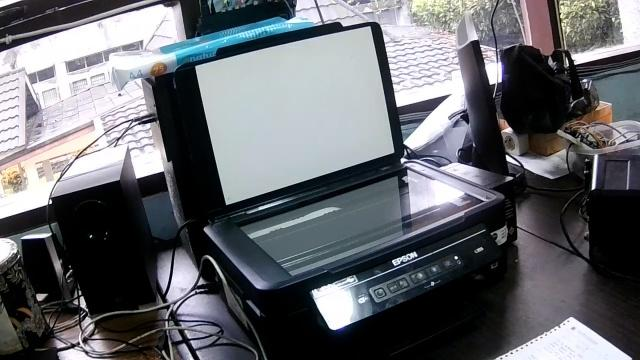Printer: (173, 20, 519, 356)
